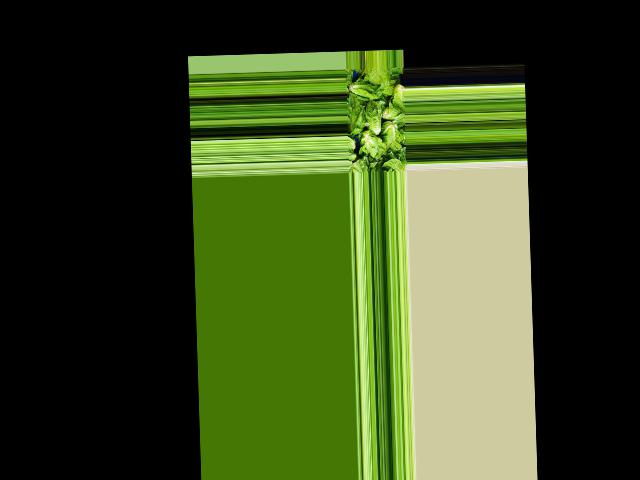lettuce: (390, 79, 404, 114)
